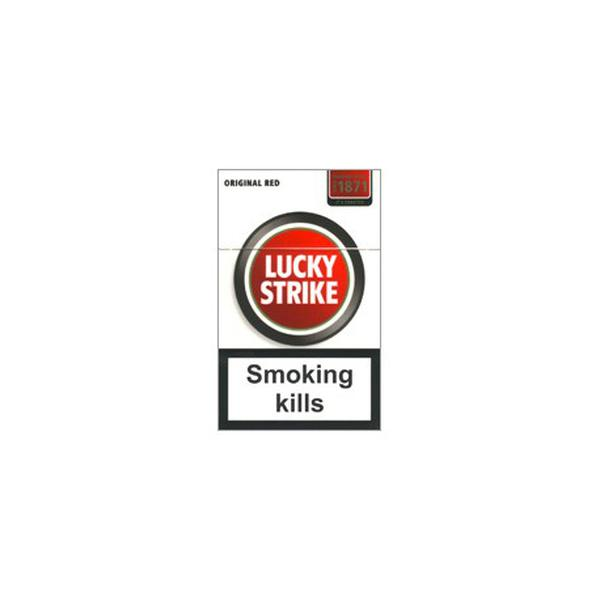lucky_strike_red: (215, 171, 380, 431)
